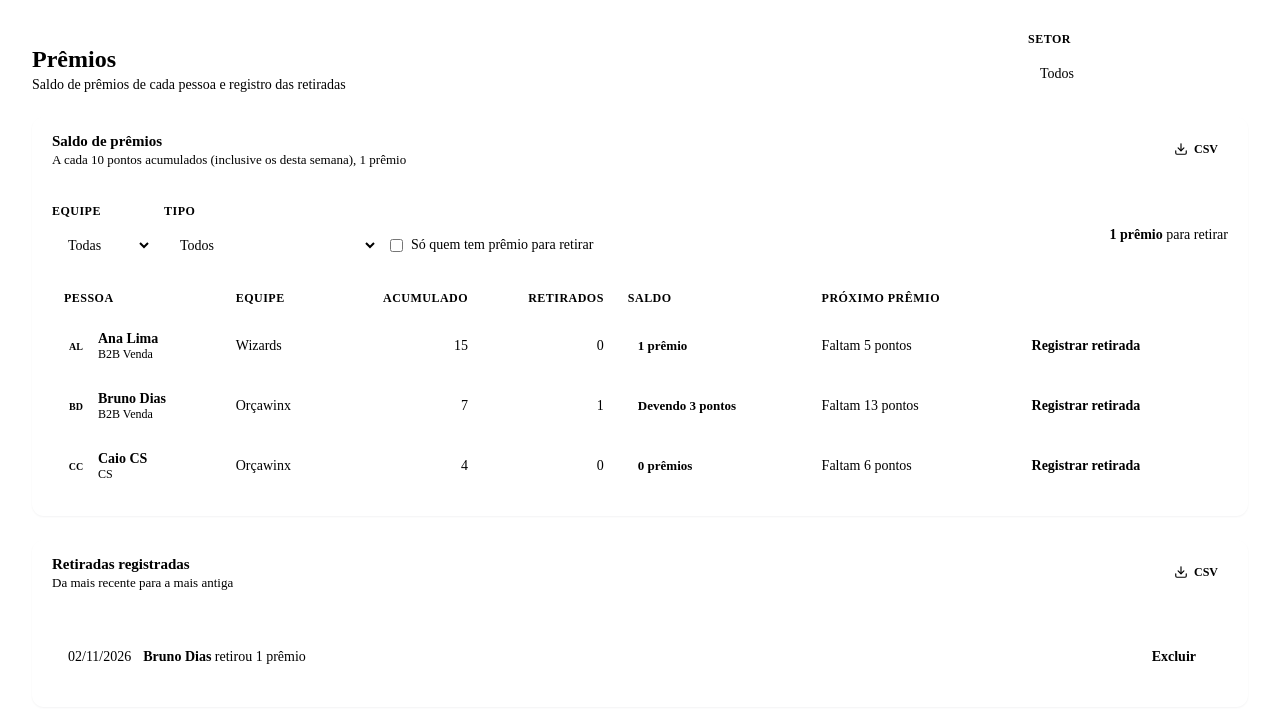
PrizesPage › mostra a mensagem do backend quando a retirada é recusada
Expected: the element "Saldo de prêmios" is shown, [32,117,1248,516]
Click the button "Registrar retirada" in the row of "Ana Lima": (1086, 346) [1016,326,1156,366]
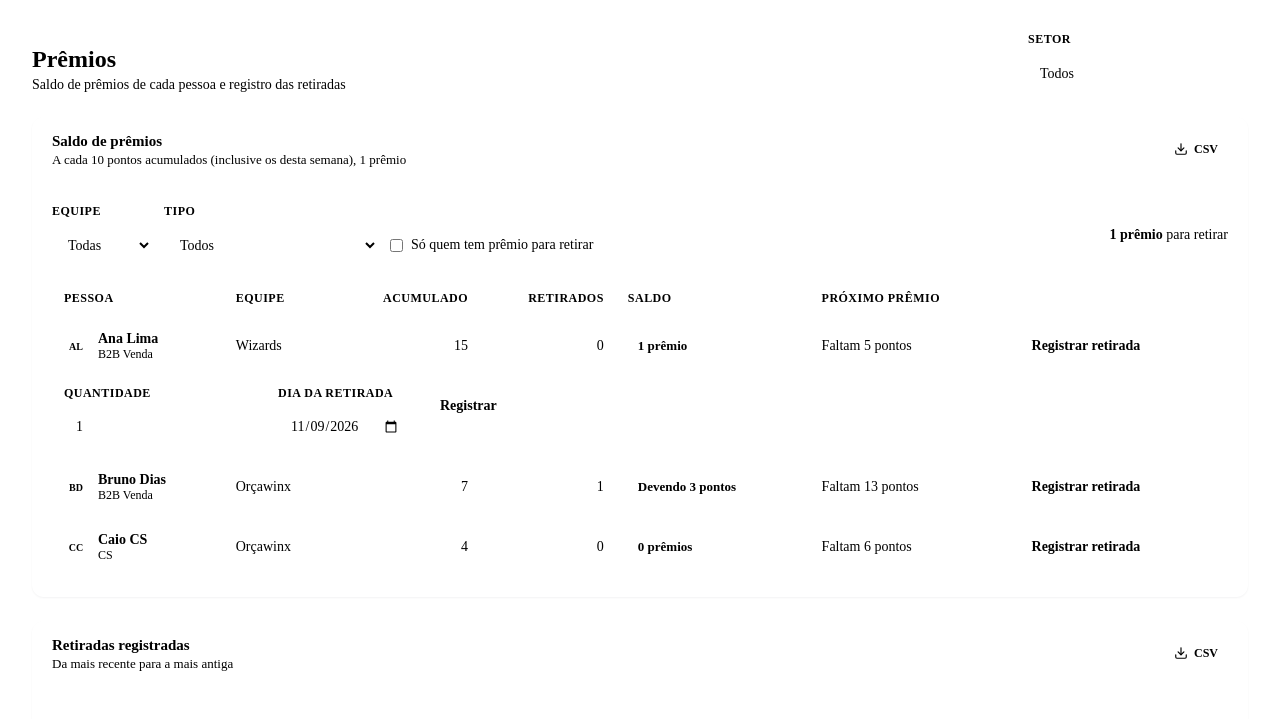
Click the button "Registrar": (468, 406) [424,386,513,426]
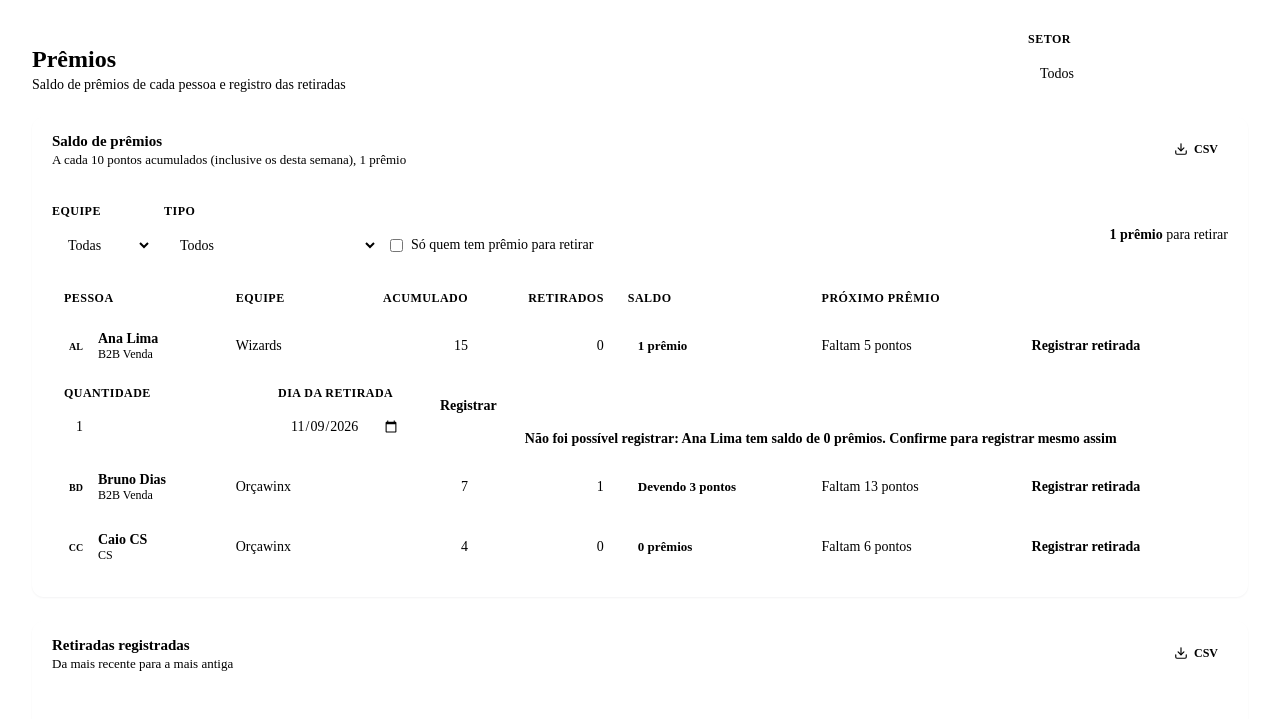
Expected: the text "Não foi possível registrar: Ana Lima tem saldo de 0 prêmios. Confirme para registrar mesmo assim" is shown, [525,431,1117,447]
